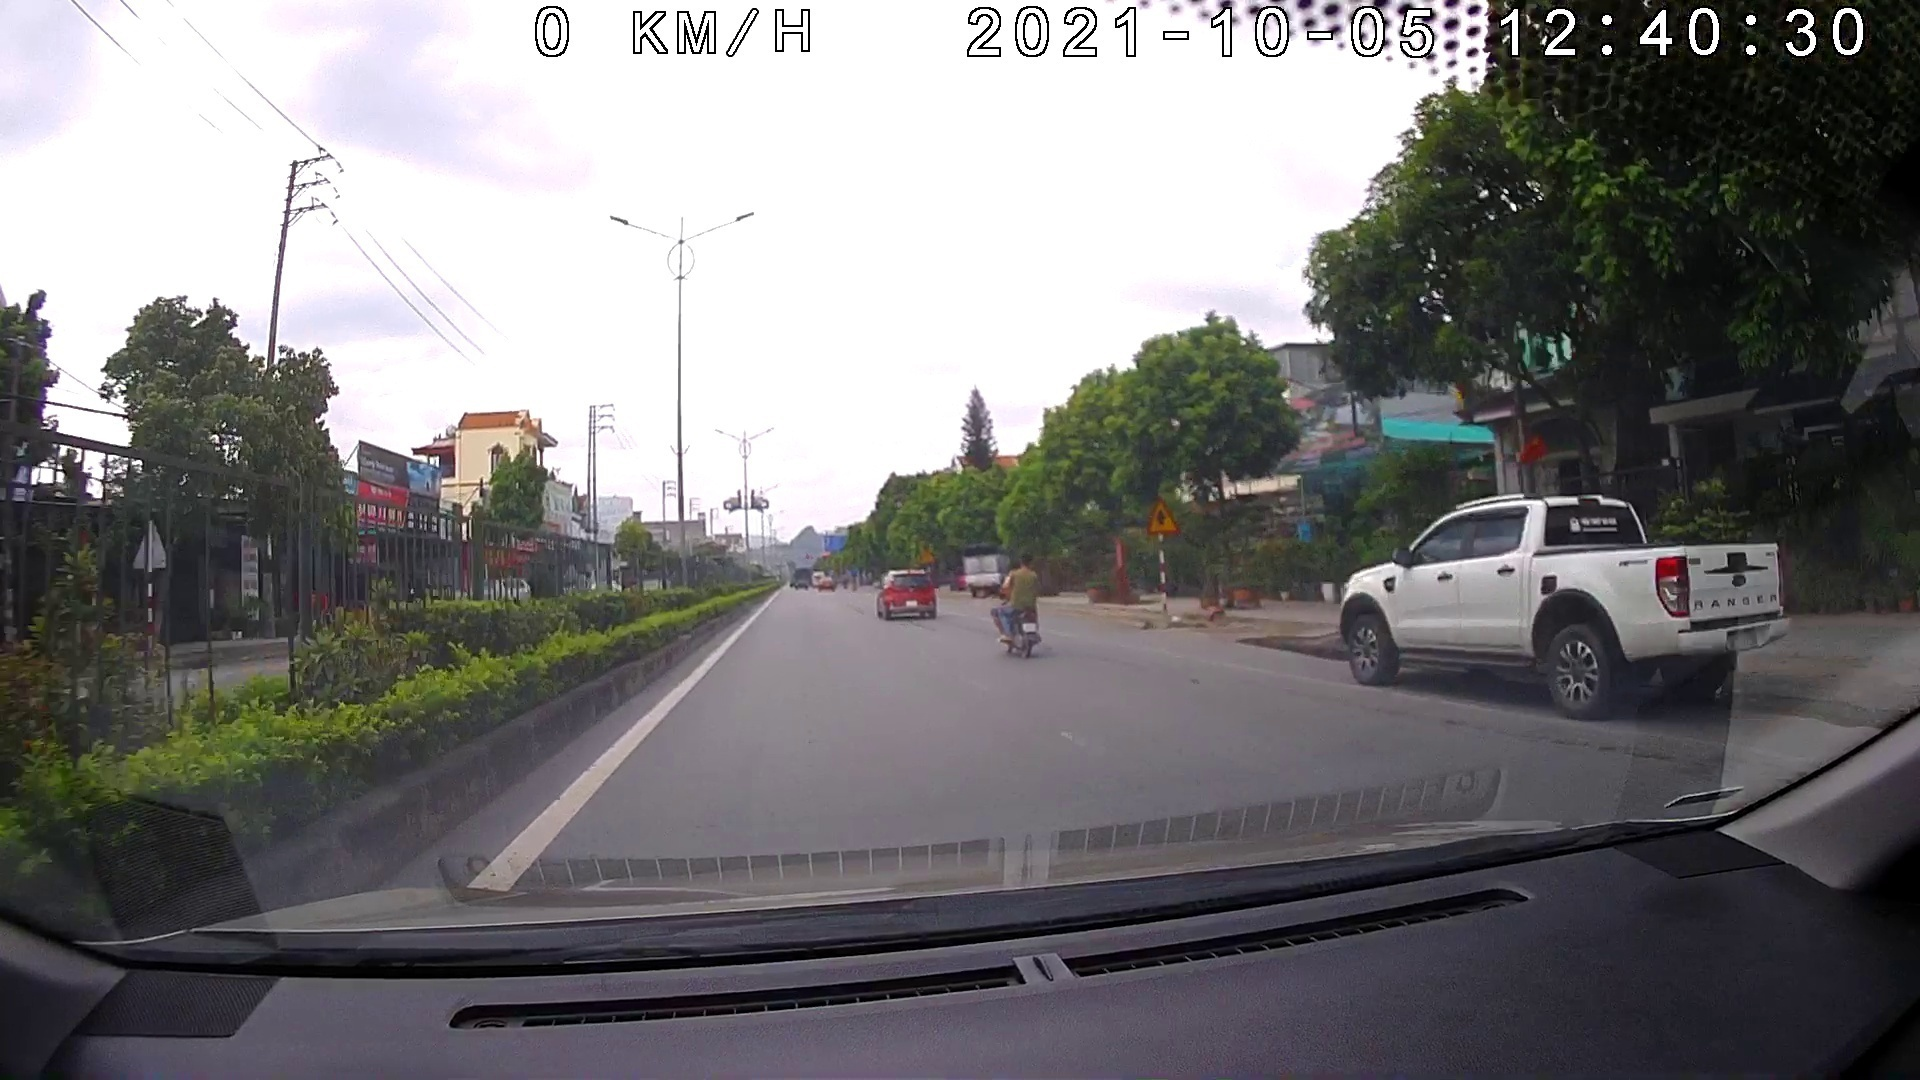Giao nhau voi duong khong uu tien: (1146, 495, 1179, 535)
